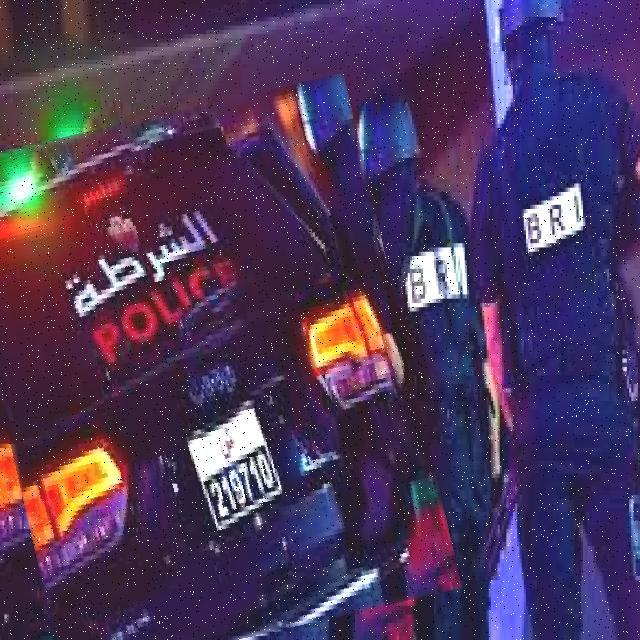police: (0, 91, 434, 640)
